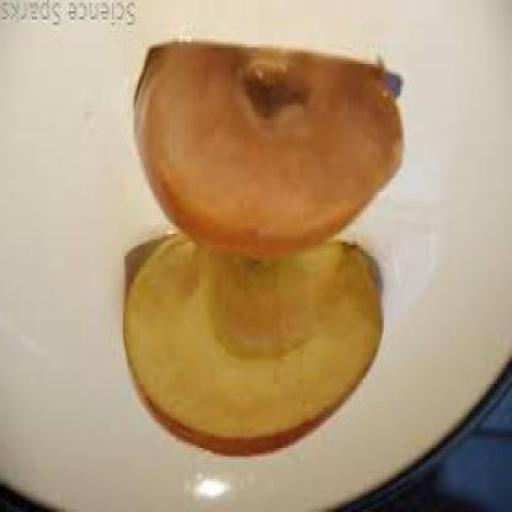biodegradable: (124, 236, 386, 459), (136, 48, 406, 262)
